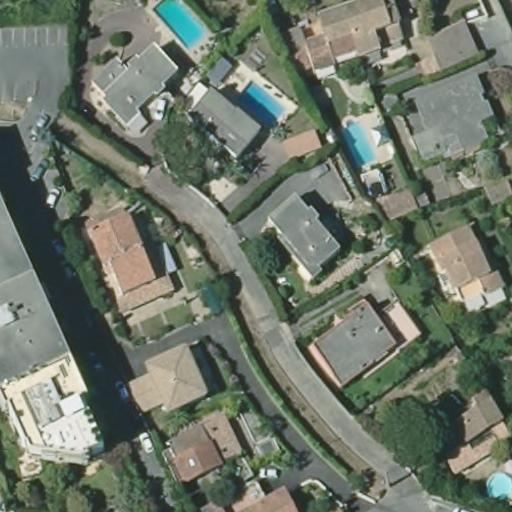pool: (150, 0, 209, 48), (232, 80, 284, 130), (336, 116, 378, 167), (485, 470, 511, 500)
